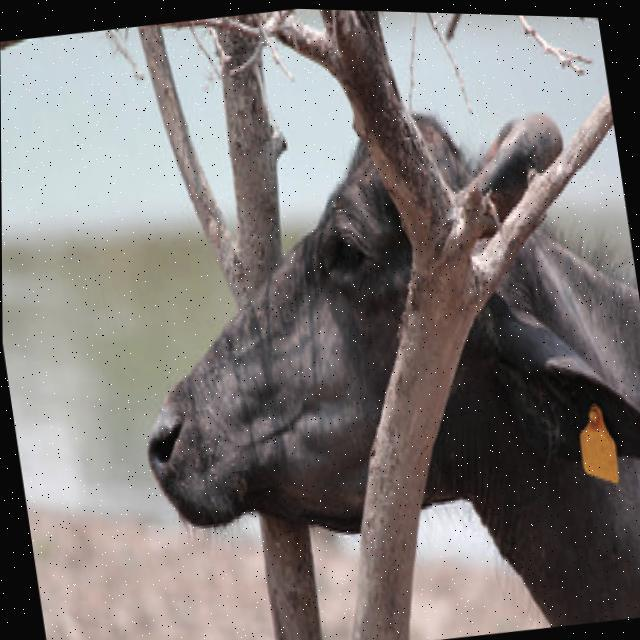Buffalo: (98, 65, 640, 640)
